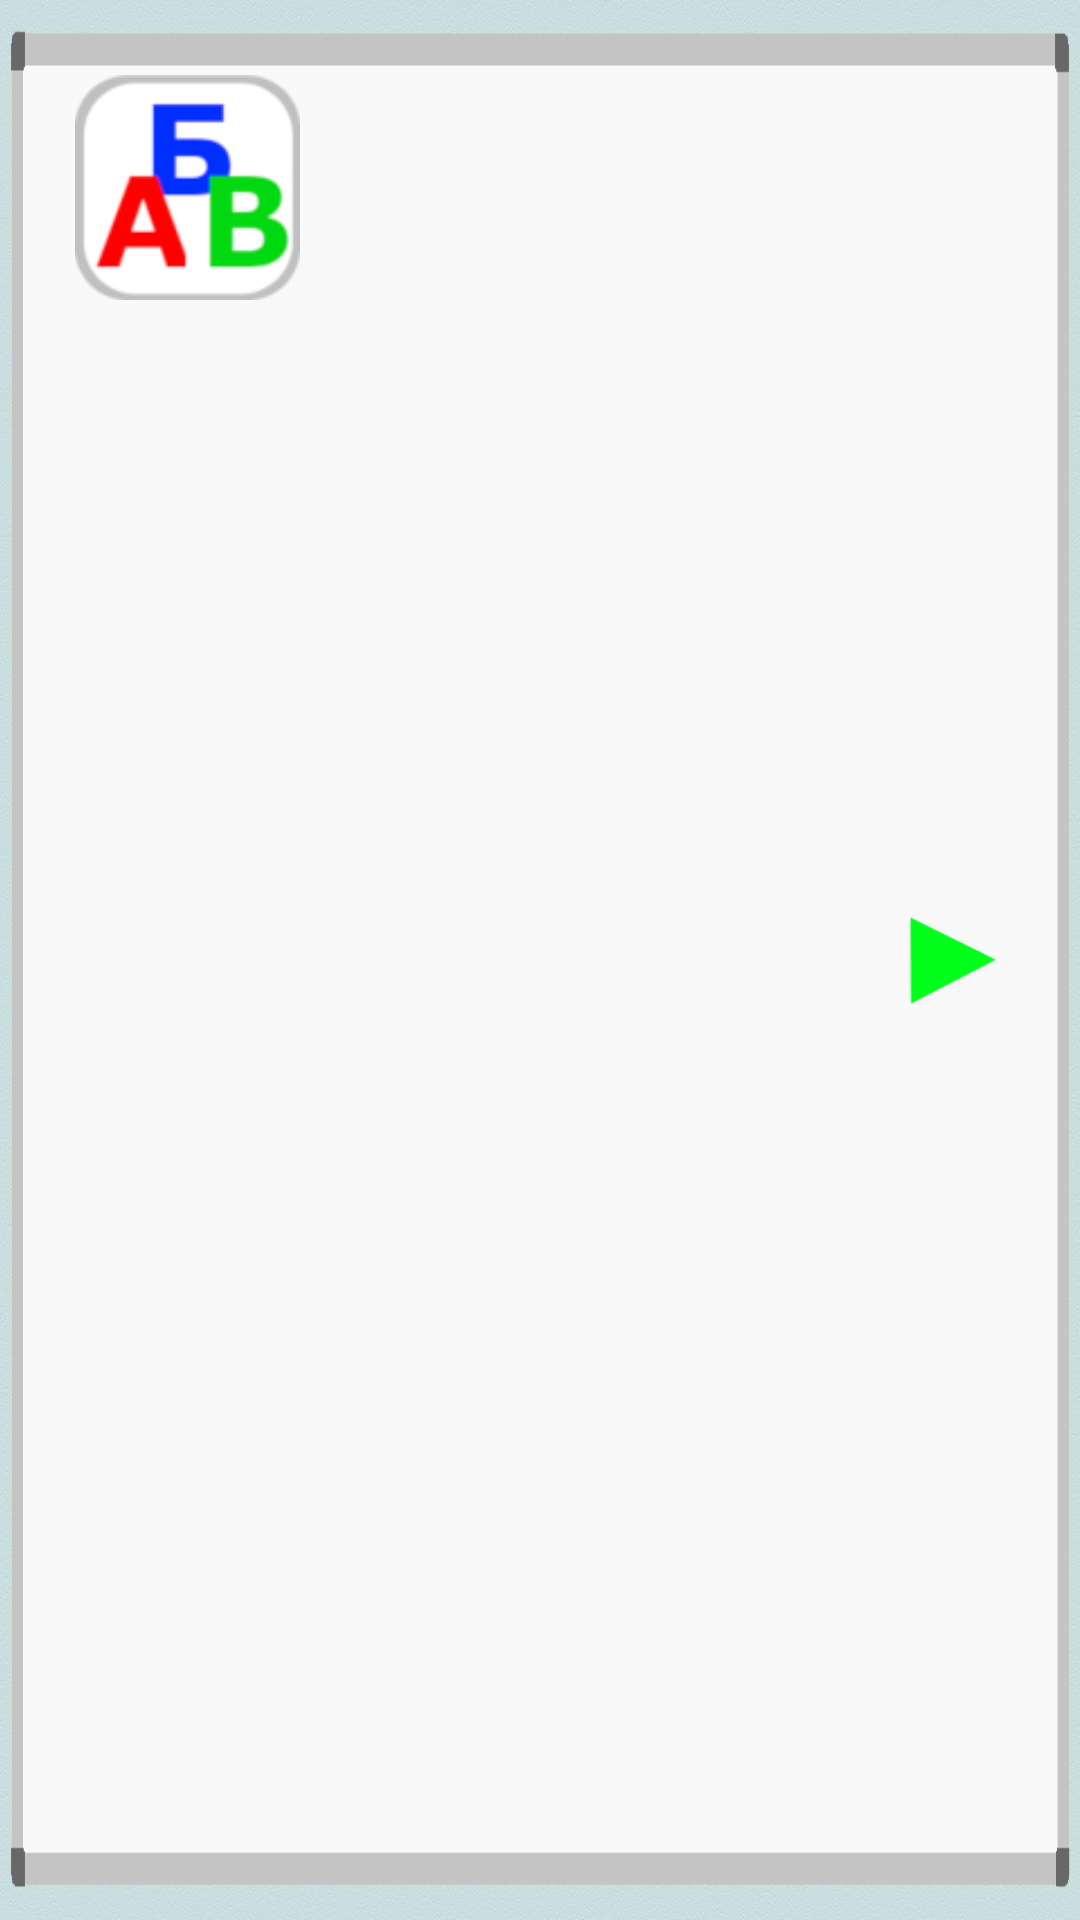

Where icons sit on this 1080 × 1920 app screen, as (x1, y1, x2, y2):
forward: (910, 917, 996, 1004)
